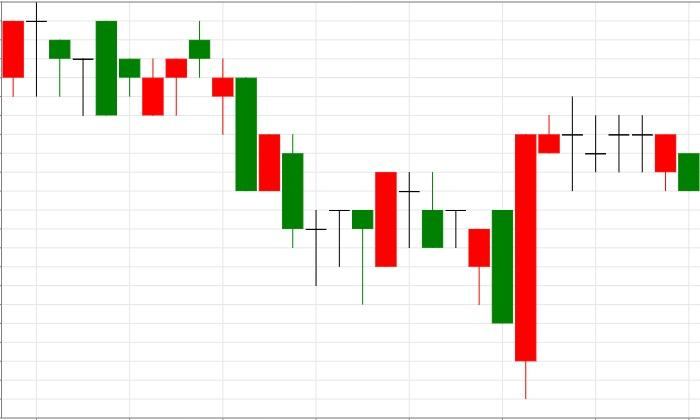bullish_engulfing_rise: (422, 134, 537, 399)
